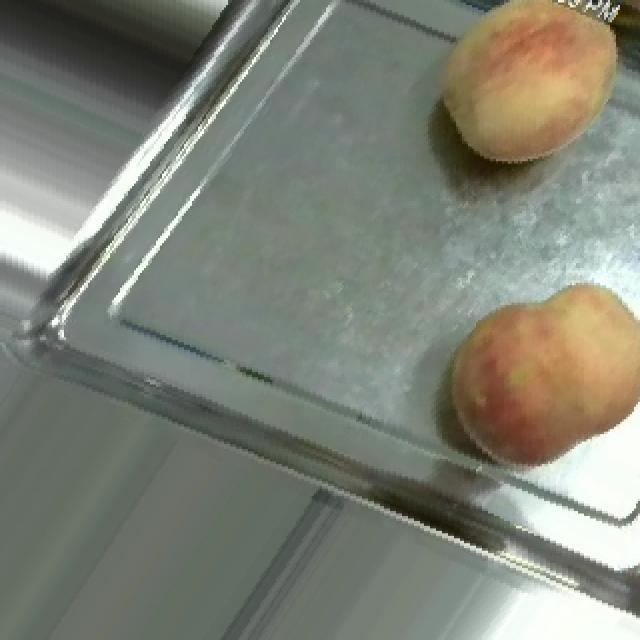Fruit: (414, 258, 640, 501), (408, 0, 638, 196)
